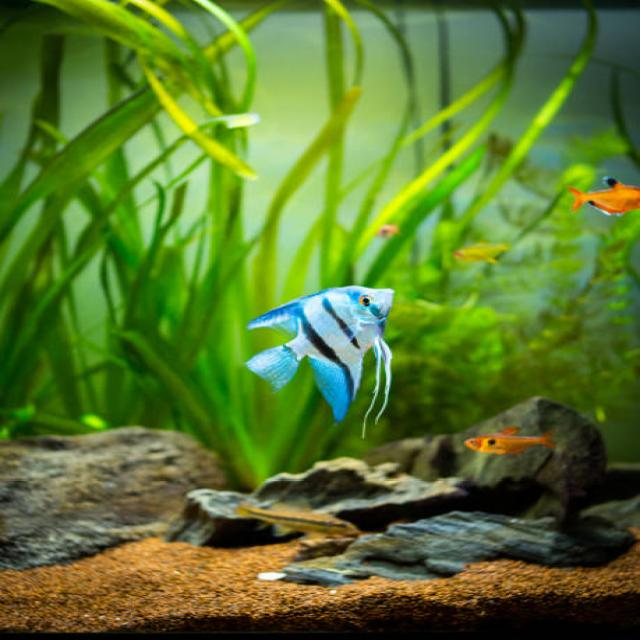AngelFish: (248, 280, 396, 427)
